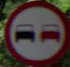No overtake: (5, 2, 64, 58)
